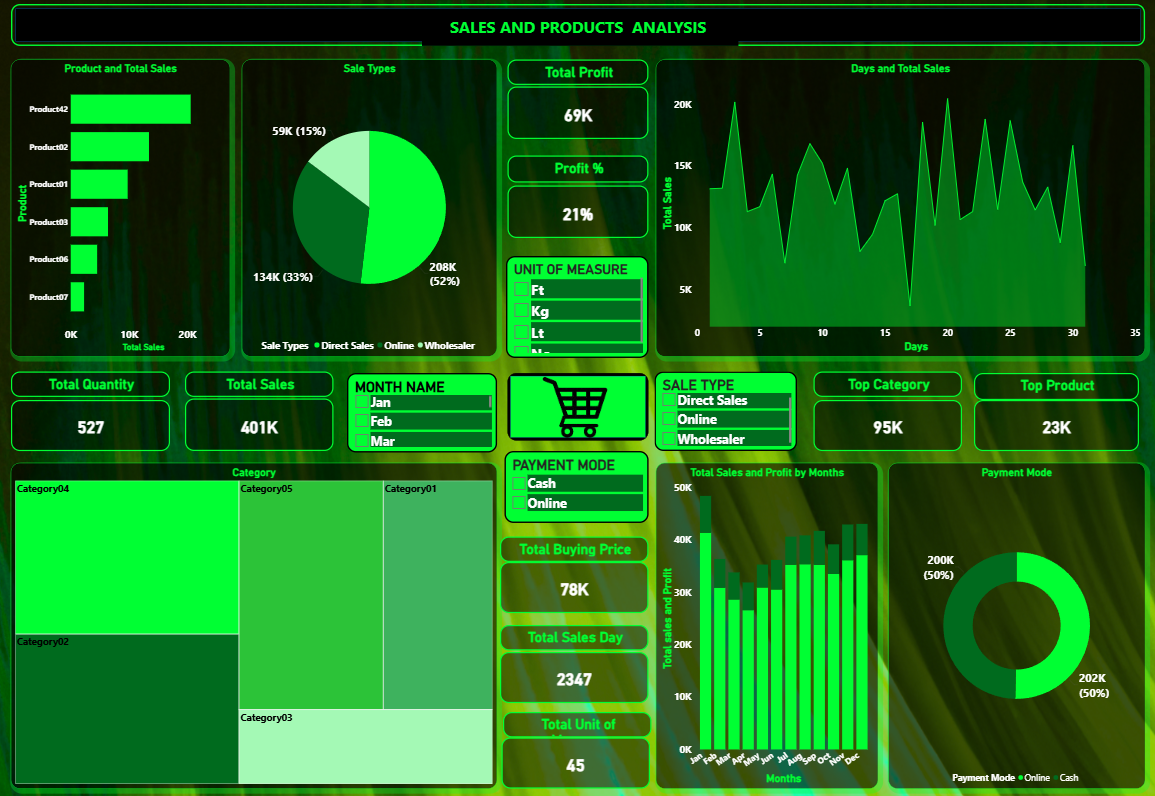

What the dashboard file says about the page in this screenshot:
{"tool":"powerbi","page":{"name":"Page 1","canvas":[3880,2680],"ordinal":0},"visuals":[{"type":"barChart","title":"Product and Total Sales","fields":{"Category":["InputData.MasterData.PRODUCT"],"Y":["Sum(InputData.Total Selling Value)"]},"box":[40.3,206.3,734.6,996.2],"z":0},{"type":"areaChart","title":"Days and Total Sales","fields":{"Y":["Sum(InputData.Total Selling Value)"],"Category":["InputData.Day"]},"box":[2203.7,206.3,1640.2,996.2],"z":1000},{"type":"pieChart","title":"Sale Types","fields":{"Y":["Sum(InputData.Total Selling Value)"],"Category":["InputData.SALE TYPE"]},"box":[815.1,206.3,855.3,996.2],"z":2000},{"type":"donutChart","title":"Payment Mode","fields":{"Y":["Sum(InputData.Total Selling Value)"],"Category":["InputData.PAYMENT MODE"]},"box":[2983.6,1559.7,860.4,1091.8],"z":3000},{"type":"treemap","title":"Category","fields":{"Group":["InputData.MasterData.CATEGORY"],"Values":["Sum(InputData.Total Selling Value)"]},"box":[40.3,1559.7,1630.2,1091.8],"z":4000},{"type":"columnChart","title":"Total Sales and Profit by Months","fields":{"Category":["InputData.Month Name"],"Y":["Sum(InputData.Total Selling Value)","InputData.Profit"]},"box":[2203.7,1559.7,744.6,1091.8],"z":5000},{"type":"slicer","fields":{"Values":["InputData.Month Name"]},"box":[1167.3,1257.8,503.1,266.7],"z":6000},{"type":"slicer","fields":{"Values":["InputData.SALE TYPE"]},"box":[2198.7,1252.8,478,266.7],"z":7000},{"type":"slicer","fields":{"Values":["InputData.PAYMENT MODE"]},"box":[1695.6,1519.5,483,241.5],"z":8000},{"type":"card","fields":{"Values":["Sum(InputData.Total Selling Value)"]},"box":[623.9,1343.4,498.1,176.1],"z":9000},{"type":"card","fields":{"Values":["CountNonNull(InputData.QUANTITY)"]},"box":[40.3,1348.4,533.3,171.1],"z":10000},{"type":"card","fields":{"Values":["Sum(InputData.Total Selling Value)"]},"box":[3270.4,1348.4,553.5,171.1],"z":11000},{"type":"card","fields":{"Values":["Sum(InputData.Total Selling Value)"]},"box":[2732,1348.4,498.1,171.1],"z":12000},{"type":"slicer","fields":{"Values":["MasterData.UOM"]},"box":[1700.6,865.4,478,342.1],"z":13000},{"type":"card","title":"Total Sales","fields":{"Values":["Sum(InputData.Total Selling Value)"]},"box":[623.9,1252.8,498.1,85.5],"z":14000},{"type":"card","title":"Total Quantity","fields":{"Values":["Sum(InputData.Total Selling Value)"]},"box":[40.3,1252.8,533.3,85.5],"z":15000},{"type":"card","title":"Top Category","fields":{"Values":["Sum(InputData.Total Selling Value)"]},"box":[2732,1252.8,498.1,85.5],"z":16000},{"type":"card","title":"Top Product","fields":{"Values":["Sum(InputData.Total Selling Value)"]},"box":[3270.4,1257.8,553.5,90.6],"z":17000},{"type":"card","fields":{"Values":["InputData.Profit%"]},"box":[1705.6,628.9,473,176.1],"z":18000},{"type":"card","title":"Profit %","fields":{"Values":["Sum(InputData.Total Selling Value)"]},"box":[1705.6,528.3,473,90.6],"z":19000},{"type":"card","fields":{"Values":["InputData.Profit"]},"box":[1705.6,296.9,473,176.1],"z":20000},{"type":"card","title":"Total Profit ","fields":{"Values":["Sum(InputData.Total Selling Value)"]},"box":[1705.6,206.3,473,85.5],"z":21000},{"type":"card","fields":{"Values":["Sum(InputData.Total Buying Value)"]},"box":[1680.5,1891.8,498.1,171.1],"z":22000},{"type":"card","title":"Total Buying Price","fields":{"Values":["Sum(InputData.Total Selling Value)"]},"box":[1680.5,1806.3,498.1,85.5],"z":23000},{"type":"card","fields":{"Values":["CountNonNull(MasterData.UOM)"]},"box":[1685.5,2480.5,498.1,171.1],"z":24000},{"type":"card","title":"Total Unit of Measure","fields":{"Values":["Sum(InputData.Total Selling Value)"]},"box":[1690.5,2394.9,498.1,85.5],"z":25000},{"type":"shape","box":[40.3,20.1,3803.7,140.9],"z":26000},{"type":"card","fields":{"Values":["Sum(InputData.Day)"]},"box":[1680.5,2193.7,498.1,171.1],"z":27000},{"type":"card","title":"Total Sales Day","fields":{"Values":["Sum(InputData.Total Selling Value)"]},"box":[1680.5,2103.1,498.1,85.5],"z":28000},{"type":"textbox","box":[1418.9,55.3,1061.6,105.7],"z":29000},{"type":"shape","box":[1705.6,1257.8,473,226.4],"z":30000},{"type":"image","box":[1781.1,1222.6,301.9,301.9],"z":31001}]}

Visuals, with their boxes in screenshot pixels (x1, y1, x2, y2), scaled from the page's 3880x2680 canvas onto the 1155x796 screenshot:
"Product and Total Sales" barChart: locate(12, 61, 231, 357)
"Days and Total Sales" areaChart: locate(656, 61, 1144, 357)
"Sale Types" pieChart: locate(243, 61, 497, 357)
"Payment Mode" donutChart: locate(888, 463, 1144, 788)
"Category" treemap: locate(12, 463, 497, 788)
"Total Sales and Profit by Months" columnChart: locate(656, 463, 878, 788)
slicer - InputData.Month Name: locate(347, 374, 497, 453)
slicer - InputData.SALE TYPE: locate(655, 372, 797, 451)
slicer - InputData.PAYMENT MODE: locate(505, 451, 649, 523)
card - Sum(InputData.Total Selling Value): locate(186, 399, 334, 451)
card - CountNonNull(InputData.QUANTITY): locate(12, 400, 171, 451)
card - Sum(InputData.Total Selling Value): locate(974, 400, 1138, 451)
card - Sum(InputData.Total Selling Value): locate(813, 400, 962, 451)
slicer - MasterData.UOM: locate(506, 257, 649, 359)
"Total Sales" card: locate(186, 372, 334, 397)
"Total Quantity" card: locate(12, 372, 171, 397)
"Top Category" card: locate(813, 372, 962, 397)
"Top Product" card: locate(974, 374, 1138, 400)
card - InputData.Profit%: locate(508, 187, 649, 239)
"Profit %" card: locate(508, 157, 649, 184)
card - InputData.Profit: locate(508, 88, 649, 140)
"Total Profit " card: locate(508, 61, 649, 87)
card - Sum(InputData.Total Buying Value): locate(500, 562, 649, 613)
"Total Buying Price" card: locate(500, 536, 649, 562)
card - CountNonNull(MasterData.UOM): locate(502, 737, 650, 788)
"Total Unit of Measure" card: locate(503, 711, 652, 737)
shape: locate(12, 6, 1144, 48)
card - Sum(InputData.Day): locate(500, 652, 649, 702)
"Total Sales Day" card: locate(500, 625, 649, 650)
textbox: locate(422, 16, 738, 48)
shape: locate(508, 374, 649, 441)
image: locate(530, 363, 620, 453)
